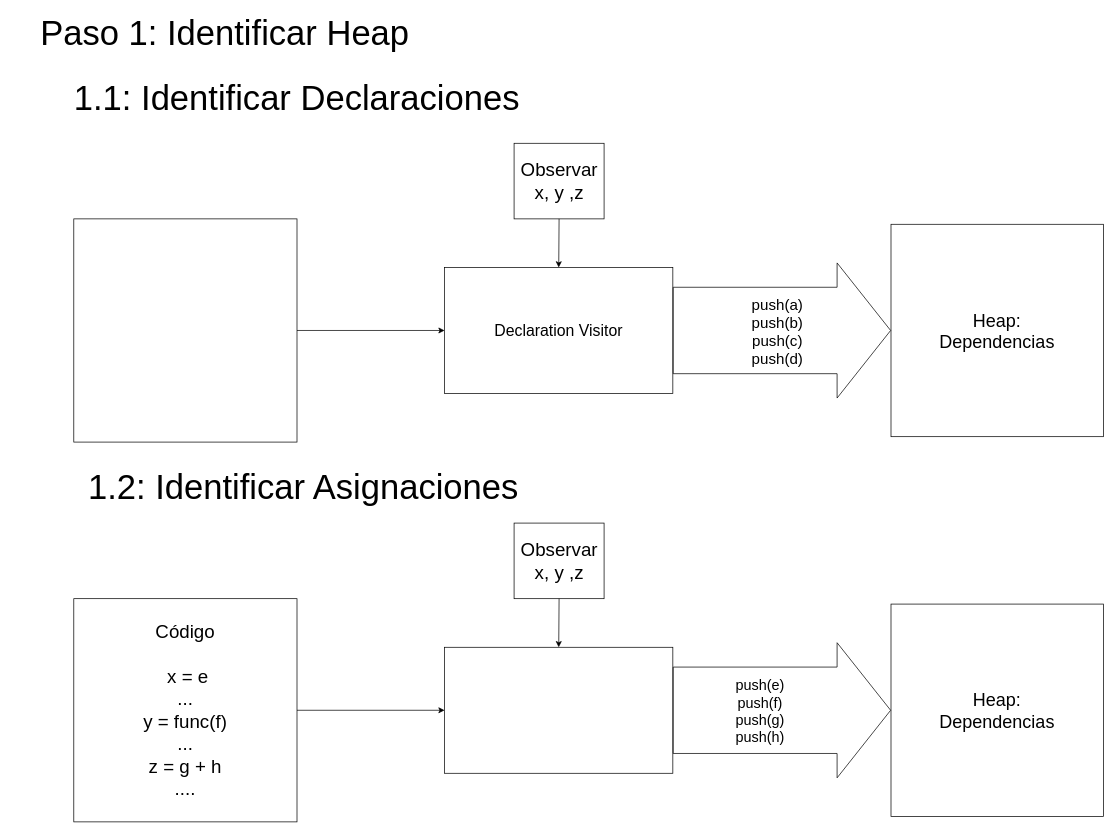
Some shapes in this 1116 by 834 pixel diagram are drawn without their labels. The box of each missing label's shape, as (x1, y1, x2, y2) in pixels:
Assignment Visitor: (444, 647, 673, 773)
Código let x = a ... let y = func(b) ... let z = c + d ...: (73, 218, 297, 442)
